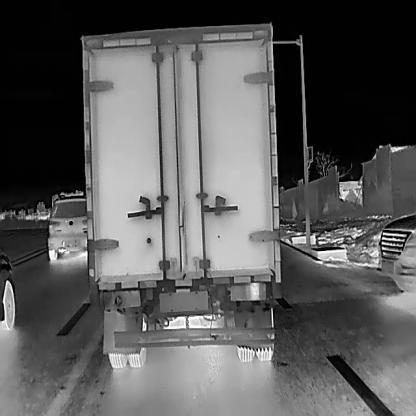car: (80, 20, 283, 369), (46, 194, 92, 261), (378, 212, 415, 294)
